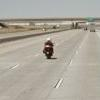Motorcycle: (40, 35, 59, 61)
